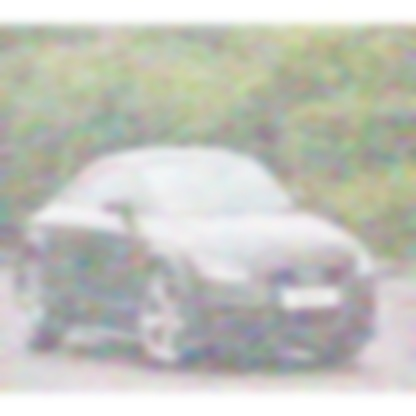Vehicle: (18, 141, 379, 371)
